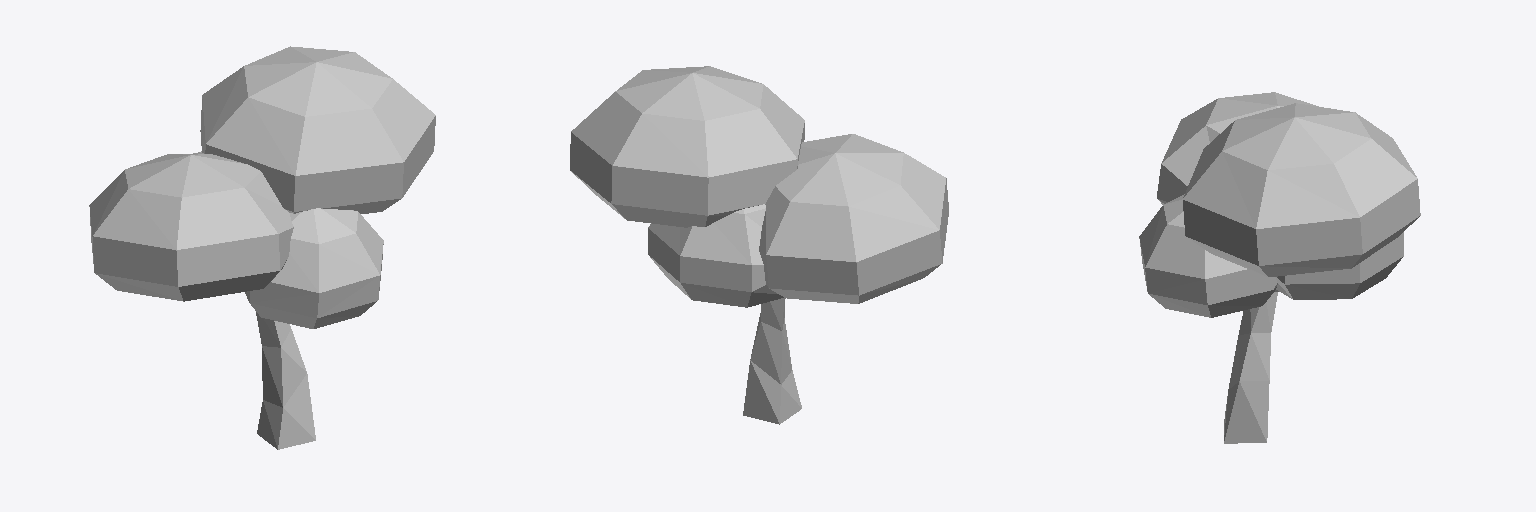
The model's file is tree_C.obj.
3 renders of one model, left to right at view 1: azimuth 30°, elevation 25°; view 2: azimuth 150°, elevation 25°; view 3: azimuth 270°, elevation 25°, orthographic.
Parts seen in each view (by area): view 1: tree_C_Cube.14212; view 2: tree_C_Cube.14212; view 3: tree_C_Cube.14212.
Part boxes in pixels (left/top/right/bottom): tree_C_Cube.14212: left=89, top=46, right=435, bottom=449; tree_C_Cube.14212: left=570, top=66, right=948, bottom=424; tree_C_Cube.14212: left=1139, top=92, right=1420, bottom=443.
Size of the model in its own units: 1.11 by 1.09 by 0.8062.